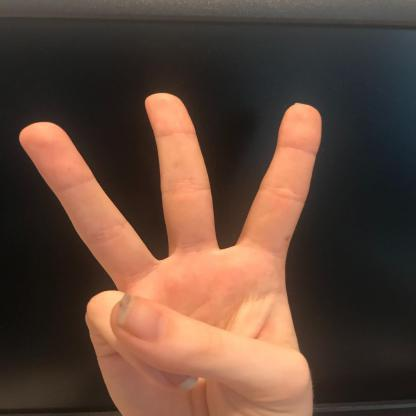W: (19, 92, 322, 416)
